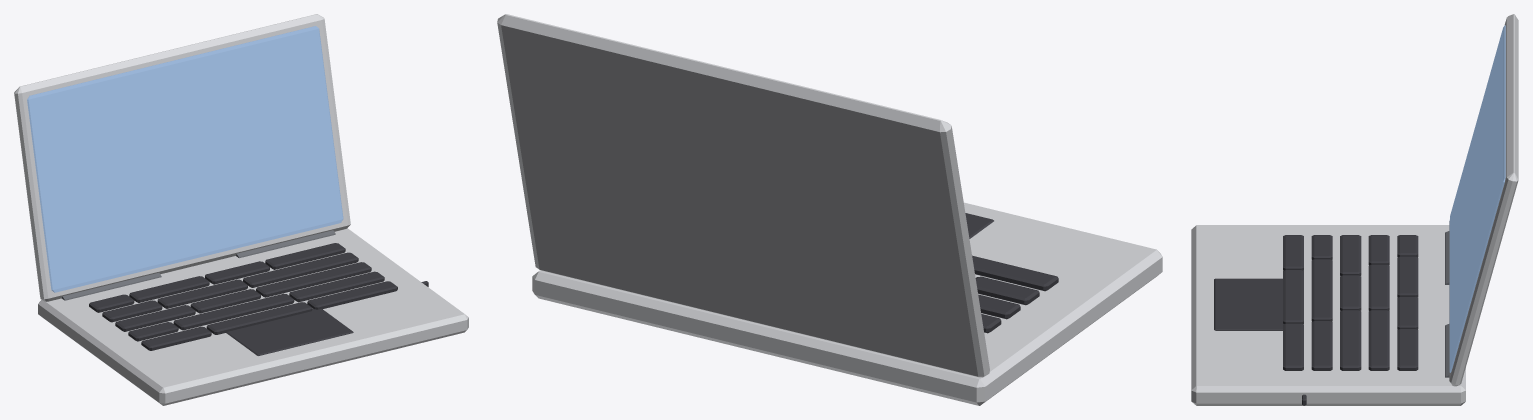
The model's file is computers-and-desk-gadgets-laptop-open-14-ad4c2b1d.glb.
3 views of the same model, side by side, from view 1: azimuth 30°, elevation 25°; view 2: azimuth 150°, elevation 25°; view 3: azimuth 270°, elevation 25° (orthographic). The views are drawn at different scales.
Visible parts, largest first — view 1: laptop-open-14; view 2: laptop-open-14; view 3: laptop-open-14.
Boxes of the visible parts, x1,y1,x2,y2 form: laptop-open-14: (14, 14, 468, 405); laptop-open-14: (497, 14, 1162, 405); laptop-open-14: (1191, 14, 1518, 405).
Bounding box in the file's own units: 0.329 × 0.2129 × 0.2681.
